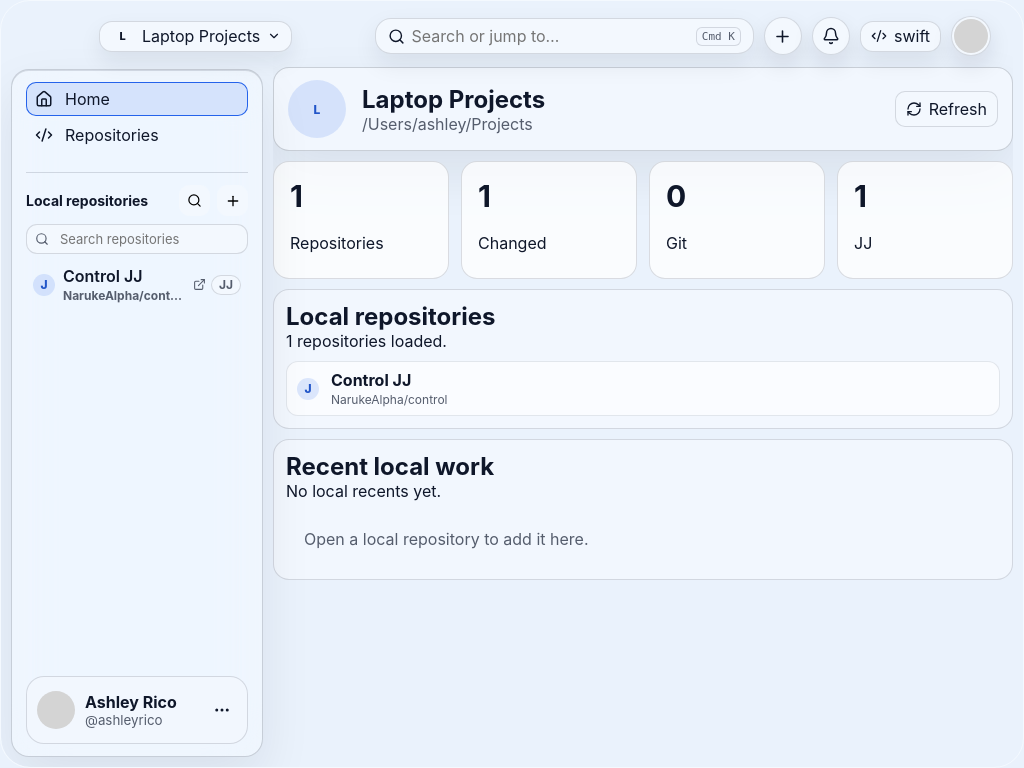
Test: Control renderer routing › opens local repository routes and renders JJ badges workspaces stale state and binary files
Click the button with aria-label "Open Control JJ" at (137, 284), box [26, 262, 248, 306]
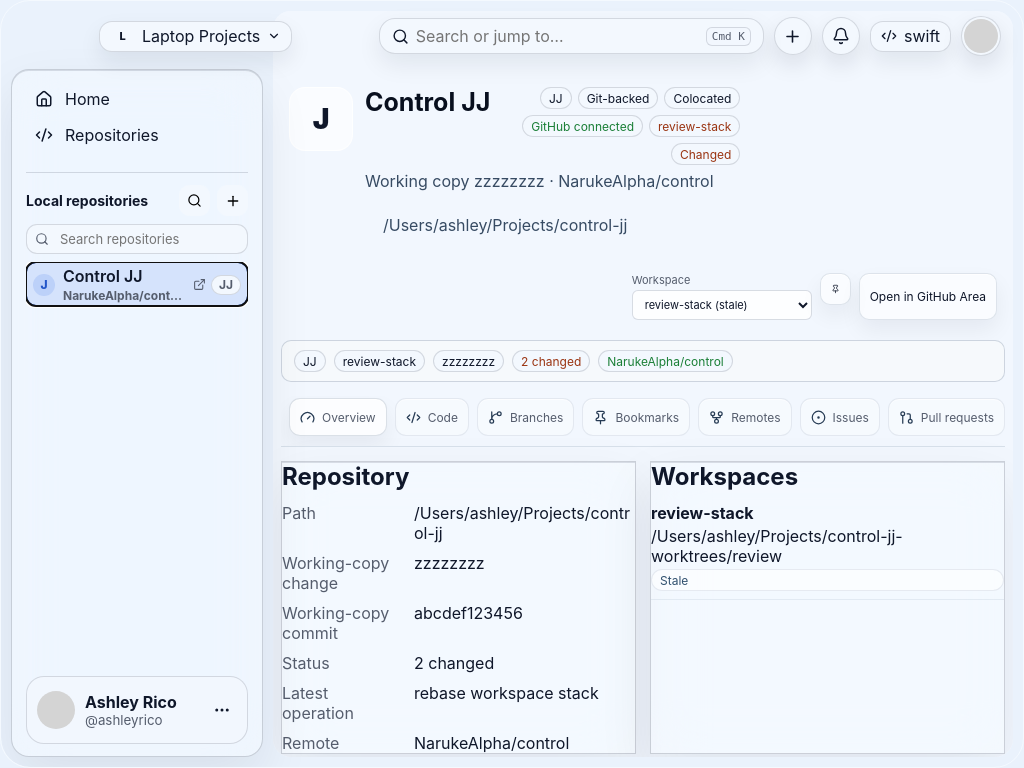
Expected: the text "Git-backed" is shown, [578, 87, 658, 109]
Expected: the text "Colocated" is shown, [664, 87, 740, 109]
Expected: the text "GitHub connected" is shown, [522, 115, 643, 137]
Click the button "Code" at (432, 417), box [395, 398, 469, 436]
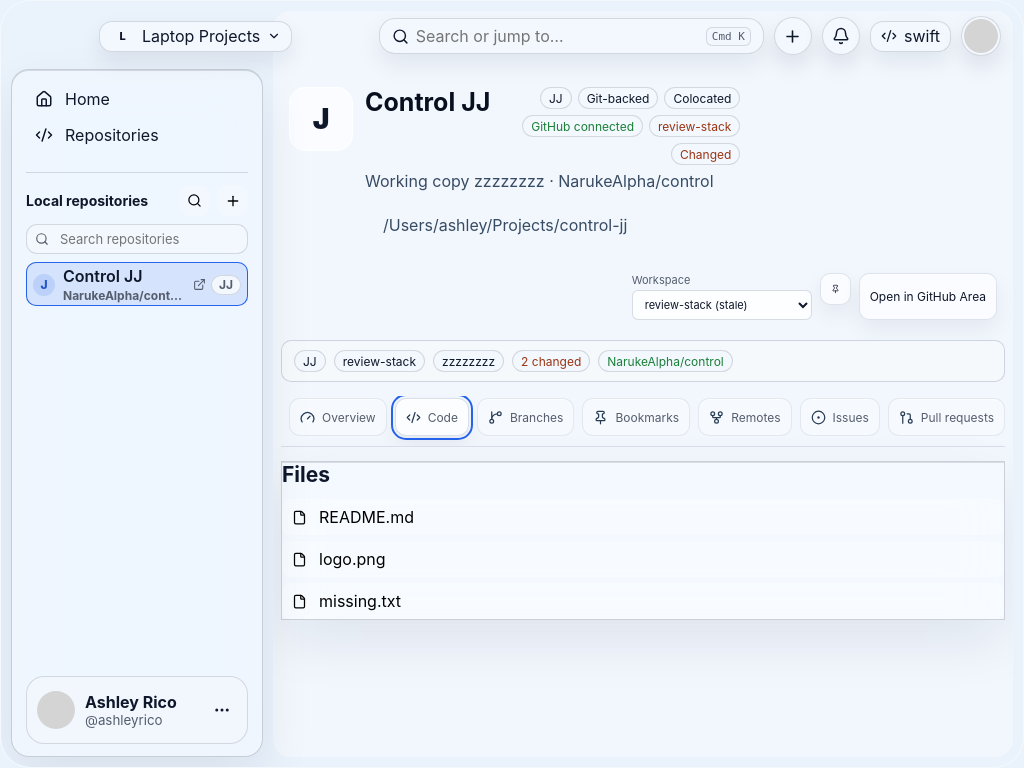
Click the button "logo.png" at (352, 559), box [282, 541, 1004, 577]
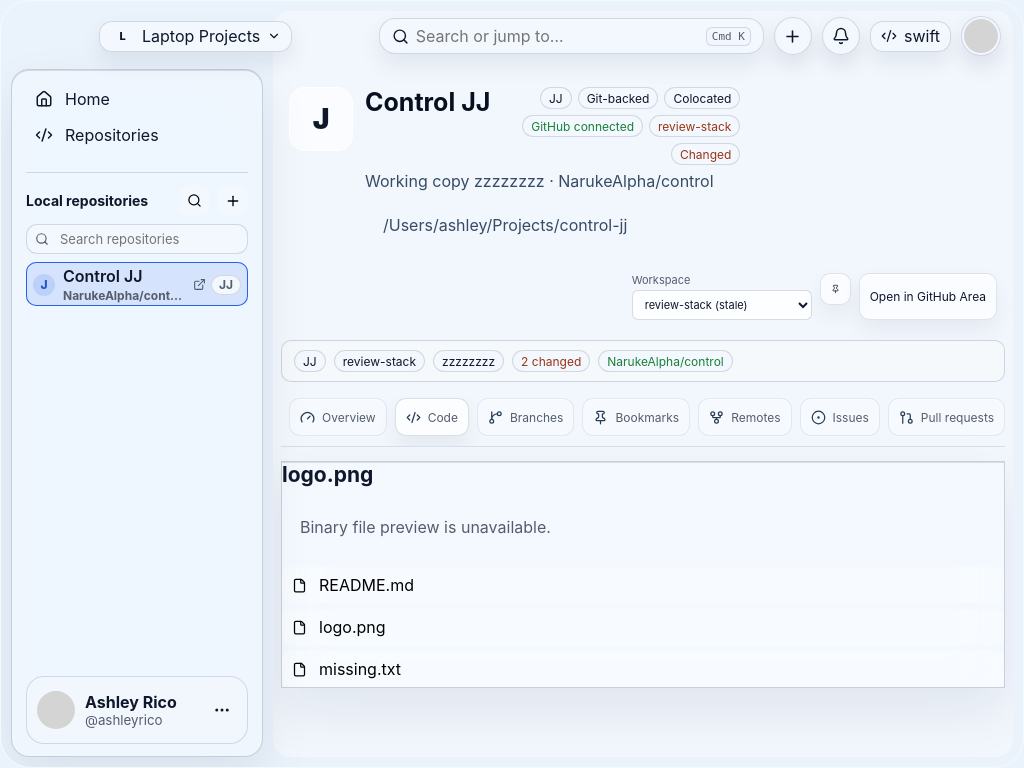
Expected: the text "Binary file preview is unavailable." is shown, [300, 517, 551, 537]
Click the button "Overview" at (338, 417), box [289, 398, 387, 436]
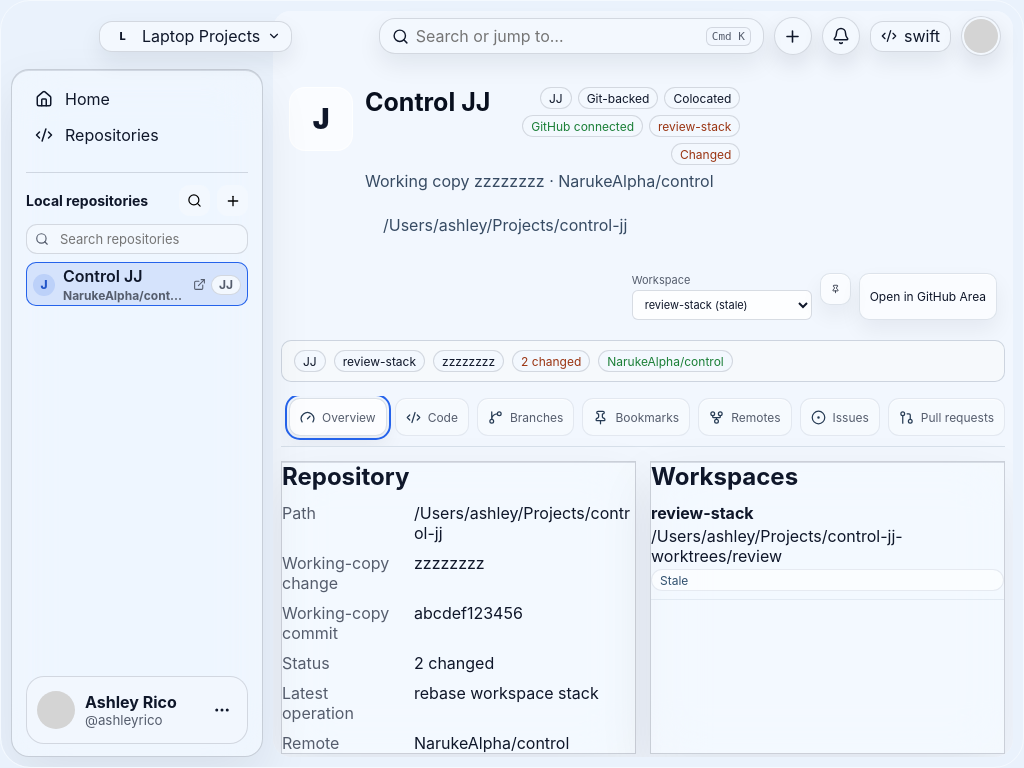
Click the button "Code" at (432, 417), box [395, 398, 469, 436]
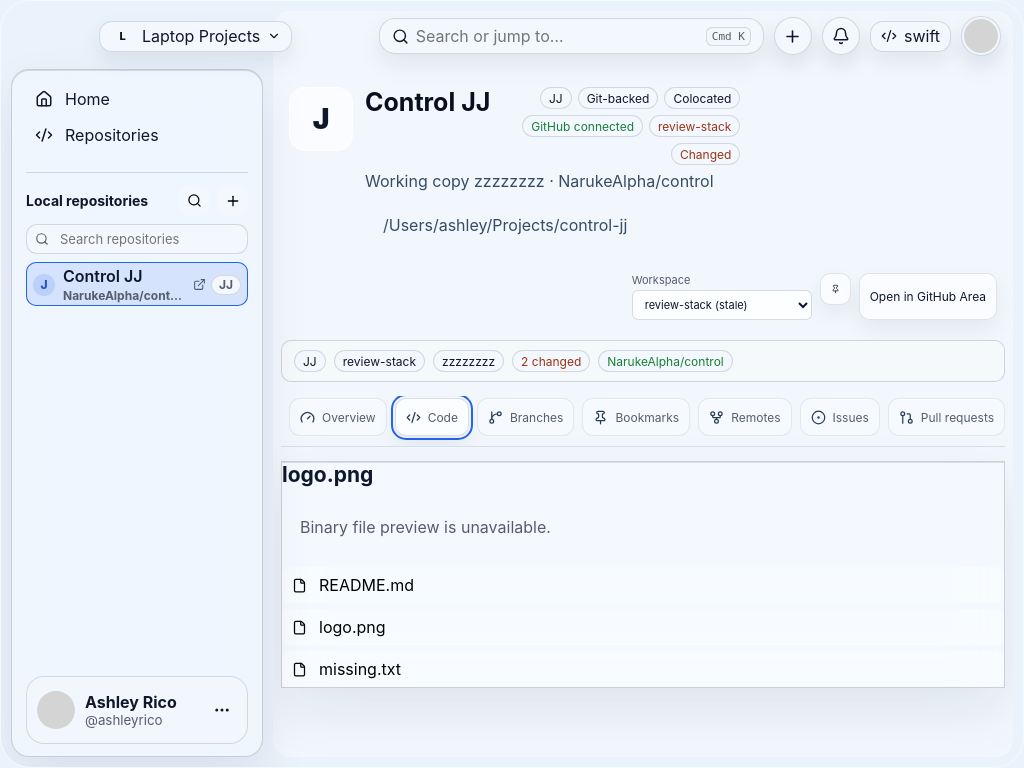
Click the button "missing.txt" at (360, 669), box [282, 651, 1004, 687]
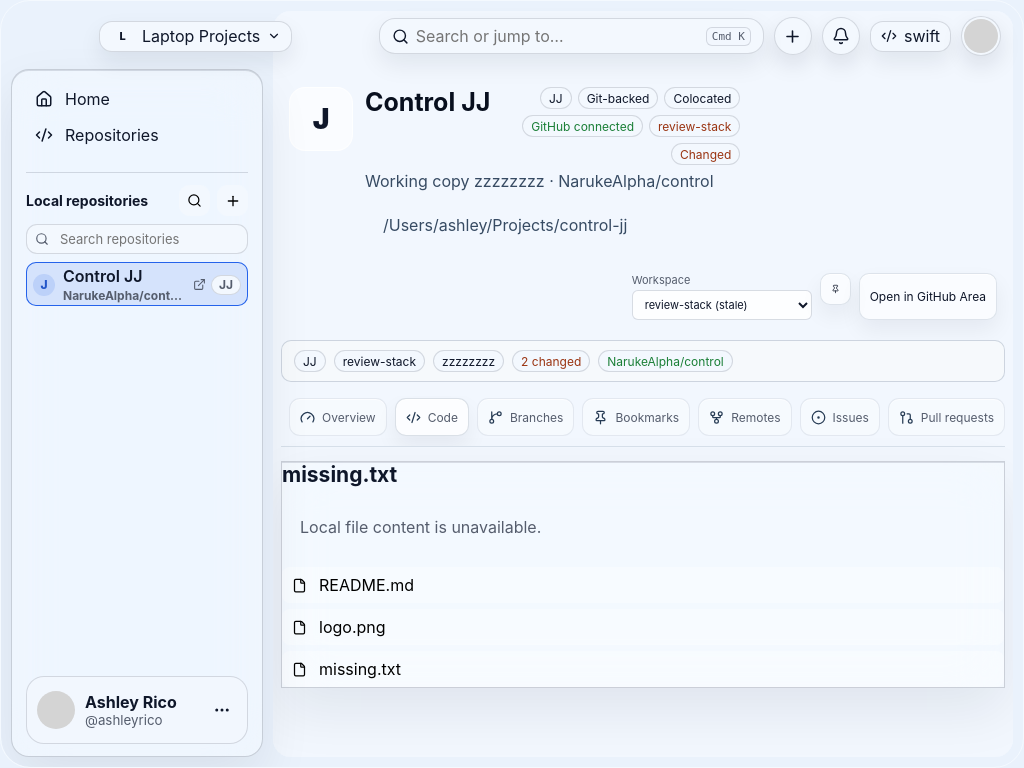
Expected: the text "Local file content is unavailable." is shown, [300, 517, 541, 537]
